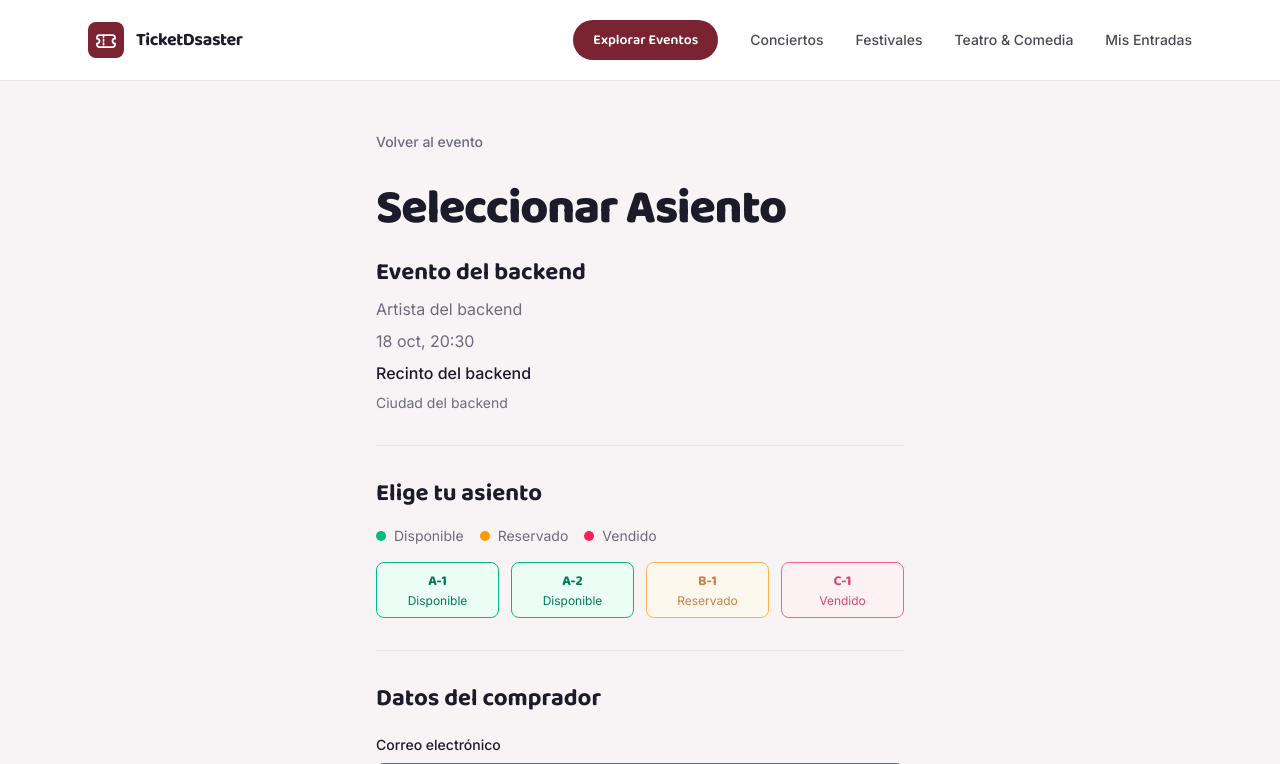
Test: seat availability › keeps a single seat selected when the buyer picks another
Click the radio button with aria-label "A-1, Disponible" at [438, 590], box [376, 562, 499, 618]
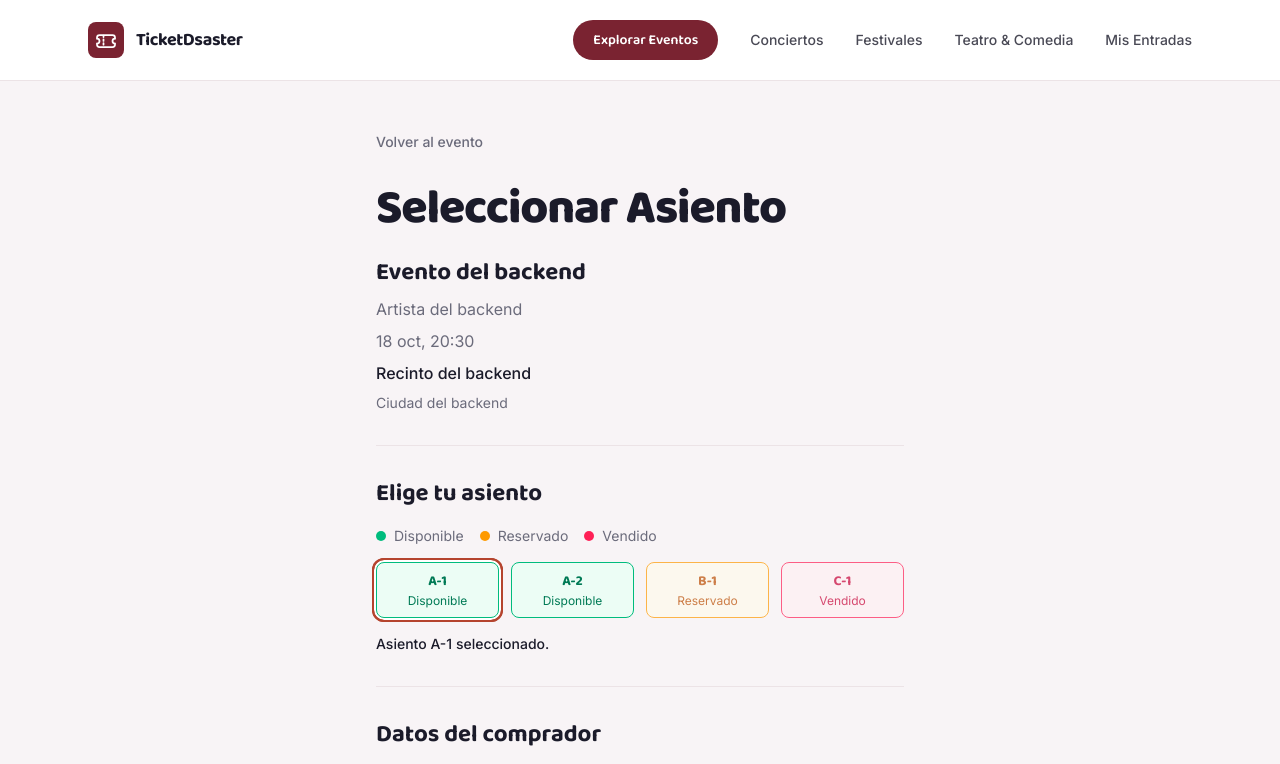
Expected: the text "Asiento A-1 seleccionado." is shown, [376, 635, 549, 652]
Click the radio button with aria-label "A-2, Disponible" at [572, 590], box [511, 562, 634, 618]
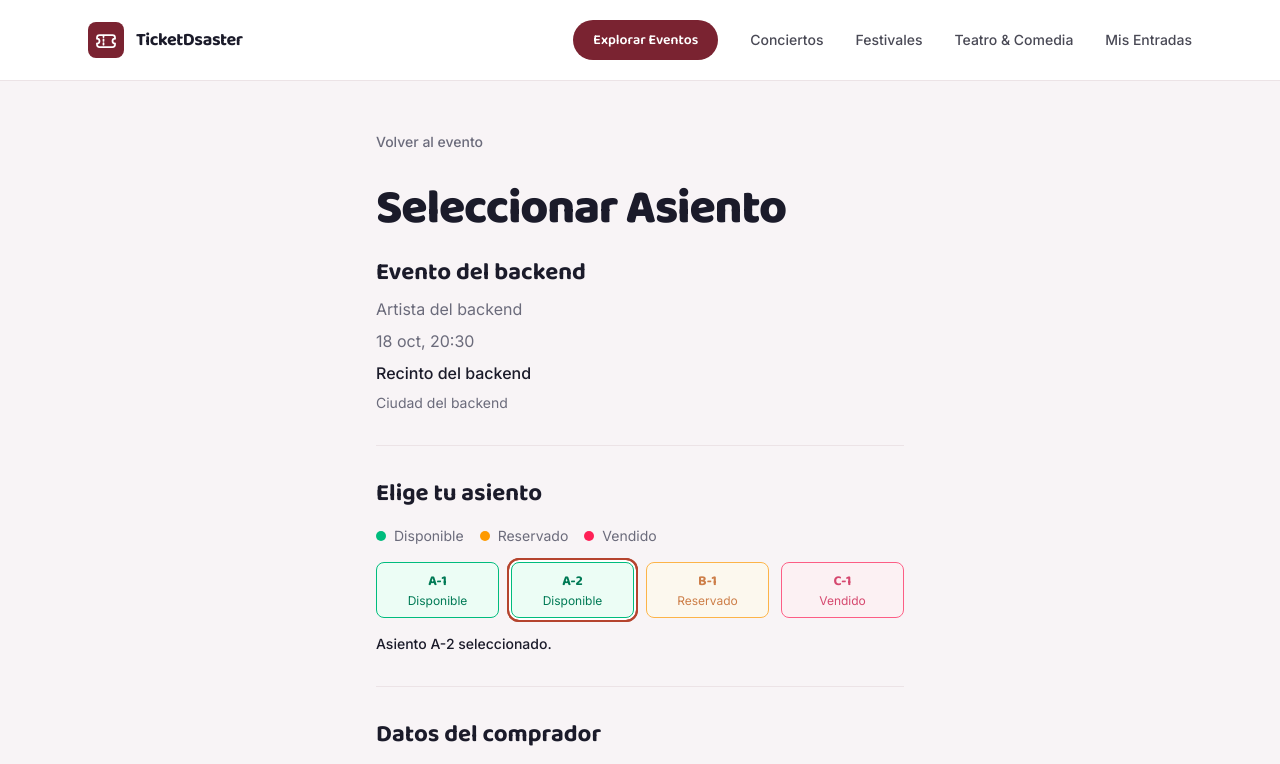
Expected: the radio button with aria-label "A-1, Disponible" is not checked, [376, 562, 499, 618]
Expected: the text "Asiento A-2 seleccionado." is shown, [376, 635, 552, 652]
